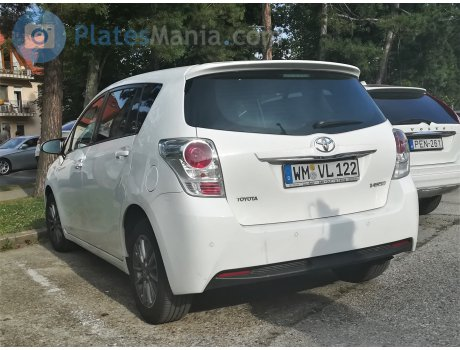License Plates: (288, 163, 365, 175)
